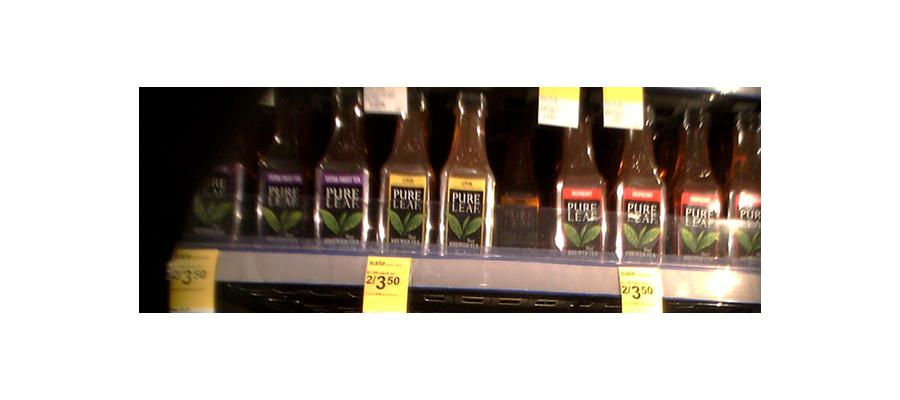bottle: (435, 86, 494, 258), (377, 86, 432, 251), (668, 96, 720, 263), (557, 102, 611, 256), (317, 85, 369, 244), (257, 92, 314, 237), (615, 104, 666, 266), (189, 107, 237, 238), (499, 106, 541, 255), (726, 99, 761, 263)
